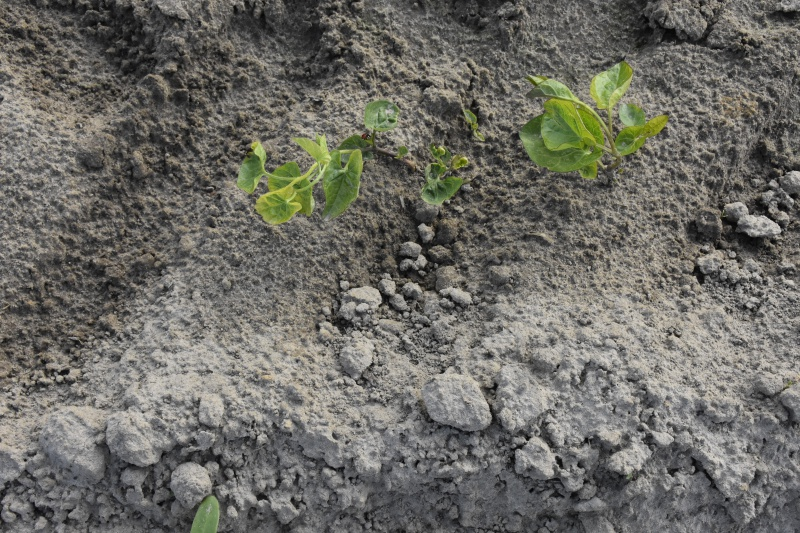field bindweed: (234, 97, 401, 225), (519, 61, 666, 186), (404, 116, 485, 212)
